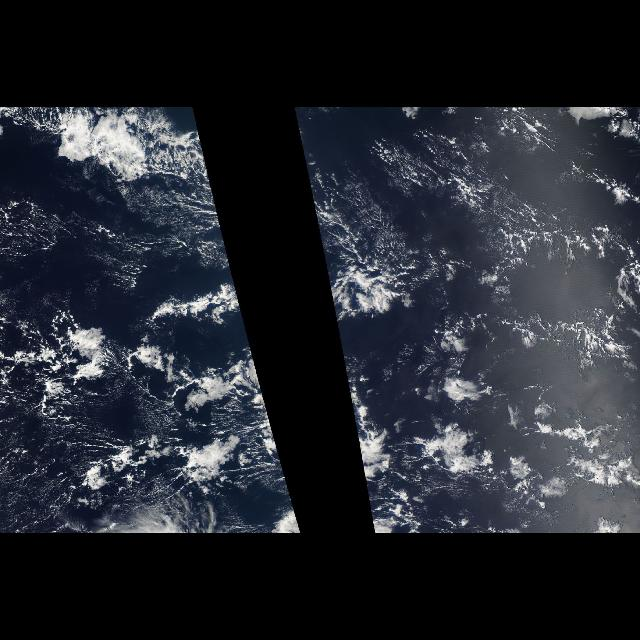Flower: (339, 304, 589, 510), (215, 344, 291, 494)
Sugar: (1, 117, 242, 505), (296, 117, 632, 289)
